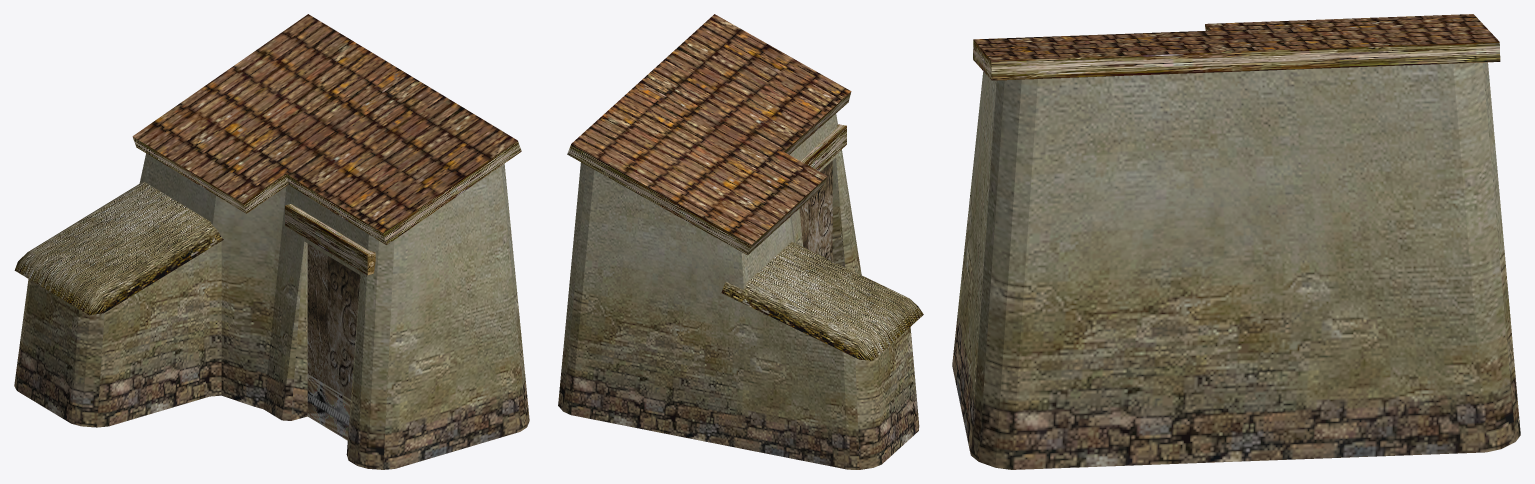
File: iber_house_c.dae
3 views of the same model, side by side, from view 1: azimuth 30°, elevation 25°; view 2: azimuth 150°, elevation 25°; view 3: azimuth 270°, elevation 25° (orthographic). The views are drawn at different scales.
Parts seen in each view (by area): view 1: house_2; view 2: house_2; view 3: house_2.
Boxes of the visible parts, bbox=[...] form: house_2: bbox=[14, 14, 529, 469]; house_2: bbox=[558, 14, 923, 469]; house_2: bbox=[952, 14, 1520, 469].
Bounding box in the file's own units: 8.58 × 8.47 × 6.55.
